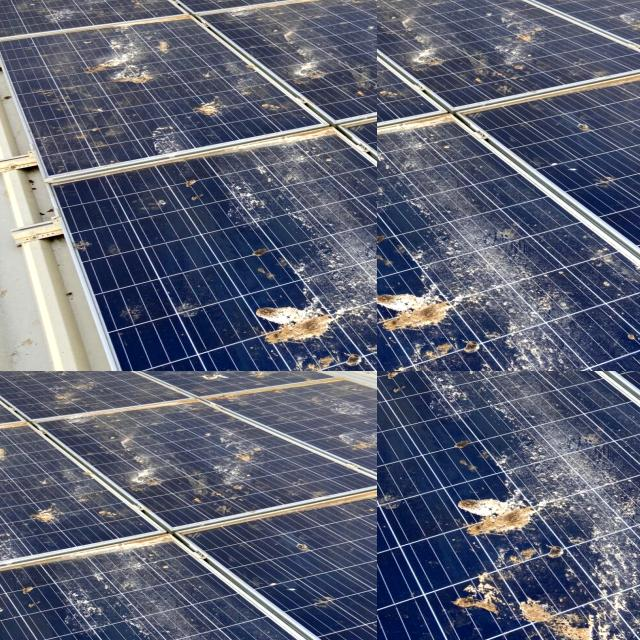bird: (441, 583, 640, 640), (438, 498, 586, 552), (385, 8, 480, 46), (432, 101, 488, 151), (474, 371, 553, 400), (408, 371, 470, 401), (377, 80, 410, 132), (377, 80, 408, 132), (377, 37, 420, 74), (377, 136, 428, 167), (377, 371, 426, 399), (537, 371, 640, 384), (377, 84, 401, 136), (377, 1, 416, 30), (377, 371, 433, 389), (377, 67, 400, 107), (377, 15, 396, 63), (377, 3, 401, 35), (377, 82, 395, 113), (377, 0, 411, 13)
crack: (9, 497, 338, 592), (0, 451, 188, 592), (0, 433, 135, 553), (118, 420, 270, 506), (81, 414, 203, 484), (270, 428, 350, 492), (324, 441, 377, 495)
panel: (228, 75, 280, 121), (283, 86, 358, 115), (33, 96, 90, 126), (100, 93, 151, 126), (161, 92, 224, 115), (0, 129, 23, 159)
